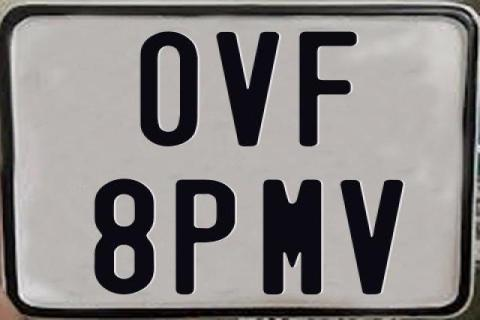0: (91, 177, 156, 295), (140, 31, 204, 147)
F: (296, 32, 358, 150)
M: (260, 177, 321, 293)
P: (174, 177, 234, 295)
V: (216, 30, 284, 144), (340, 178, 408, 292)
